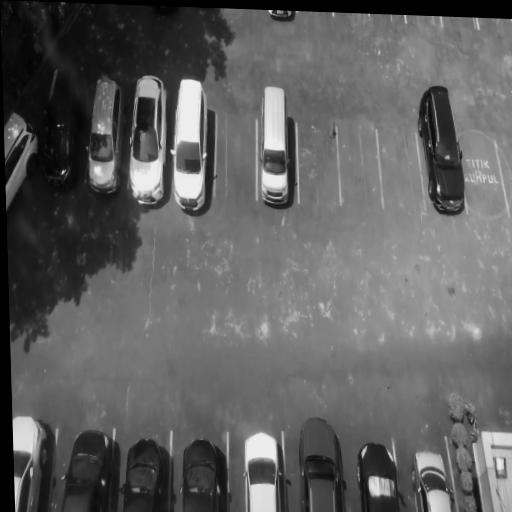Car: (415, 85, 470, 217), (168, 77, 215, 218), (127, 73, 170, 210), (84, 71, 127, 199), (38, 65, 81, 192), (56, 423, 114, 512), (298, 410, 344, 512), (257, 84, 293, 212), (4, 104, 43, 215), (12, 409, 54, 512), (241, 432, 286, 512), (354, 441, 403, 512), (121, 438, 168, 512), (181, 439, 225, 512), (407, 447, 455, 512), (267, 10, 299, 20)
Space Available: (296, 121, 341, 208), (214, 113, 255, 203), (378, 128, 423, 209), (462, 139, 509, 216), (339, 128, 384, 203), (442, 17, 479, 31), (404, 15, 443, 26)
